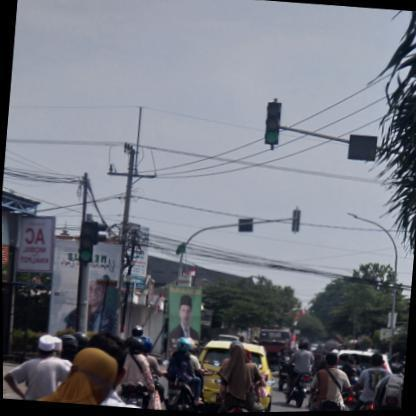green: (74, 220, 96, 264), (261, 100, 282, 146)
